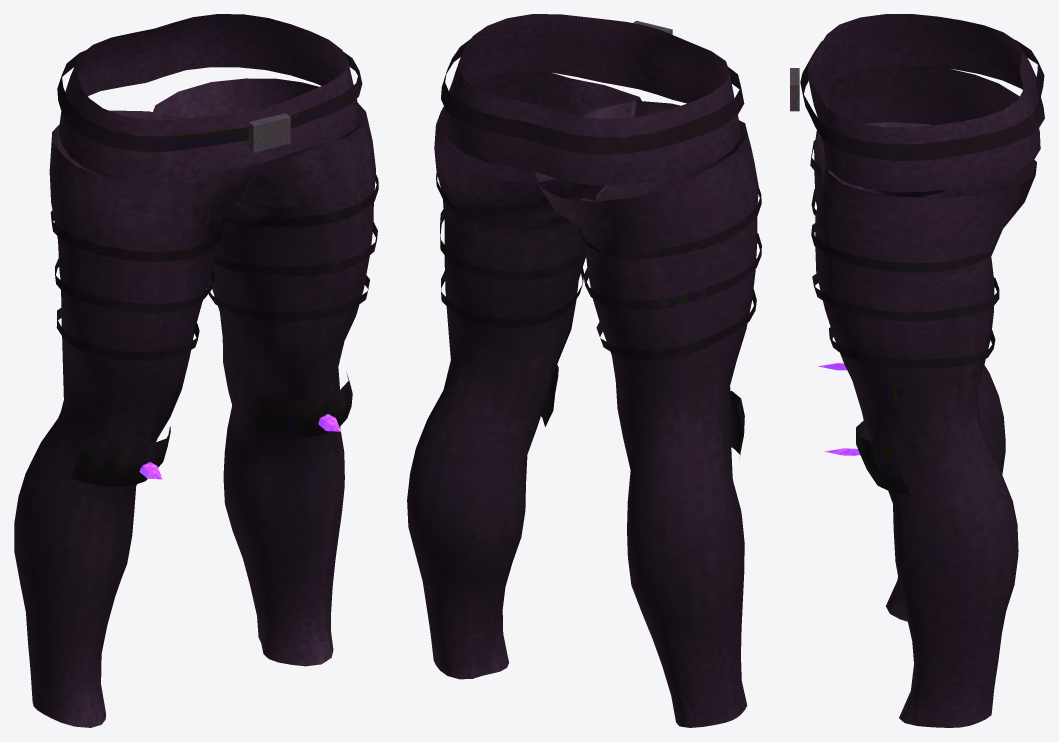
Rendered from Calça_do_Assassino_nivel75.glb.
3 views of the same model, side by side, from view 1: azimuth 30°, elevation 25°; view 2: azimuth 150°, elevation 25°; view 3: azimuth 270°, elevation 25° (orthographic). The views are drawn at different scales.
Parts seen in each view (by area): view 1: calca_do_assassino_nivel75; view 2: calca_do_assassino_nivel75; view 3: calca_do_assassino_nivel75.
Boxes of the visible parts, x1,y1,x2,y2 form: calca_do_assassino_nivel75: (14, 14, 378, 727); calca_do_assassino_nivel75: (407, 14, 761, 727); calca_do_assassino_nivel75: (790, 14, 1044, 727).
Size of the model in its own units: 0.4424 by 0.8351 by 0.321.
1 material, 1 textured.
